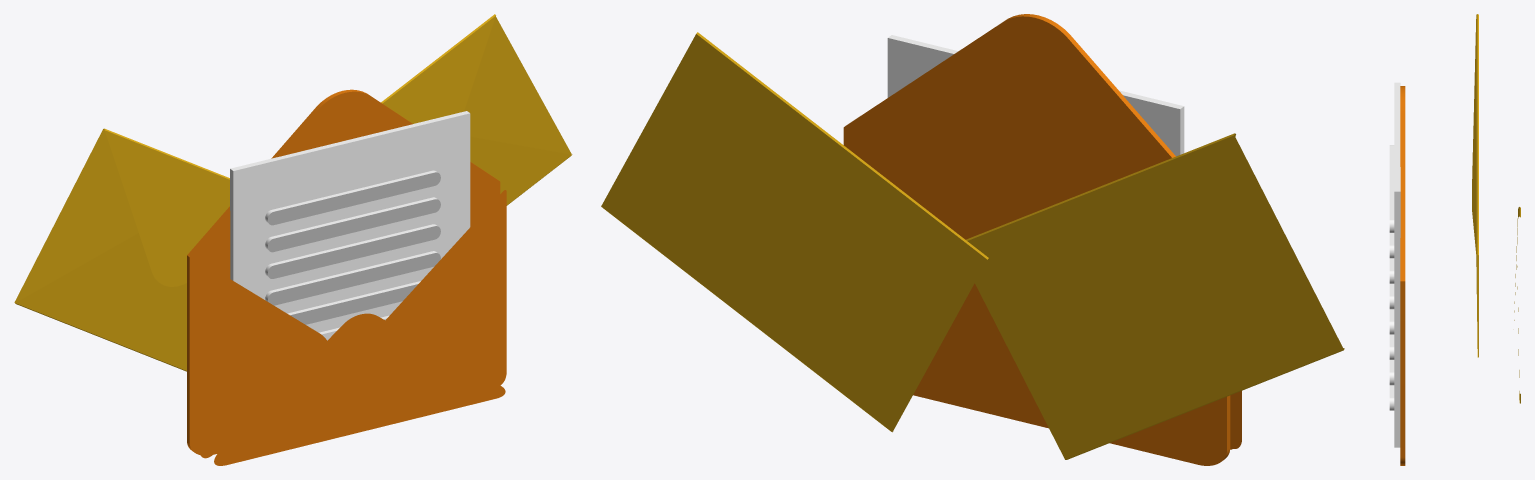
Rendered from envelop.glb.
The picture shows the model from 3 angles, left to right: view 1: azimuth 30°, elevation 25°; view 2: azimuth 150°, elevation 25°; view 3: azimuth 270°, elevation 25°; orthographic projection. The views are drawn at different scales.
Visible parts, largest first — view 1: Cube_1, Plane.012_2, Plane.007_5, Plane.001_0, Plane.006_4, Plane.005_6, Plane.004_3; view 2: Plane.001_0, Plane.012_2, Plane.004_3, Cube_1; view 3: Cube_1, Plane.004_3, Plane.012_2.
Part boxes in pixels (x1,y1,x2,y2): Cube_1: [230, 111, 470, 340]; Plane.012_2: [14, 128, 229, 371]; Plane.007_5: [214, 313, 505, 465]; Plane.001_0: [381, 14, 572, 205]; Plane.006_4: [199, 263, 326, 458]; Plane.005_6: [385, 190, 506, 385]; Plane.004_3: [187, 89, 500, 455]; Plane.001_0: [601, 32, 988, 432]; Plane.012_2: [966, 133, 1344, 459]; Plane.004_3: [843, 14, 1230, 465]; Cube_1: [887, 35, 1184, 156]; Cube_1: [1389, 82, 1400, 447]; Plane.004_3: [1400, 86, 1405, 465]; Plane.012_2: [1472, 14, 1478, 357].
Size of the model in its own units: 3.73 by 2.03 by 0.8731.
